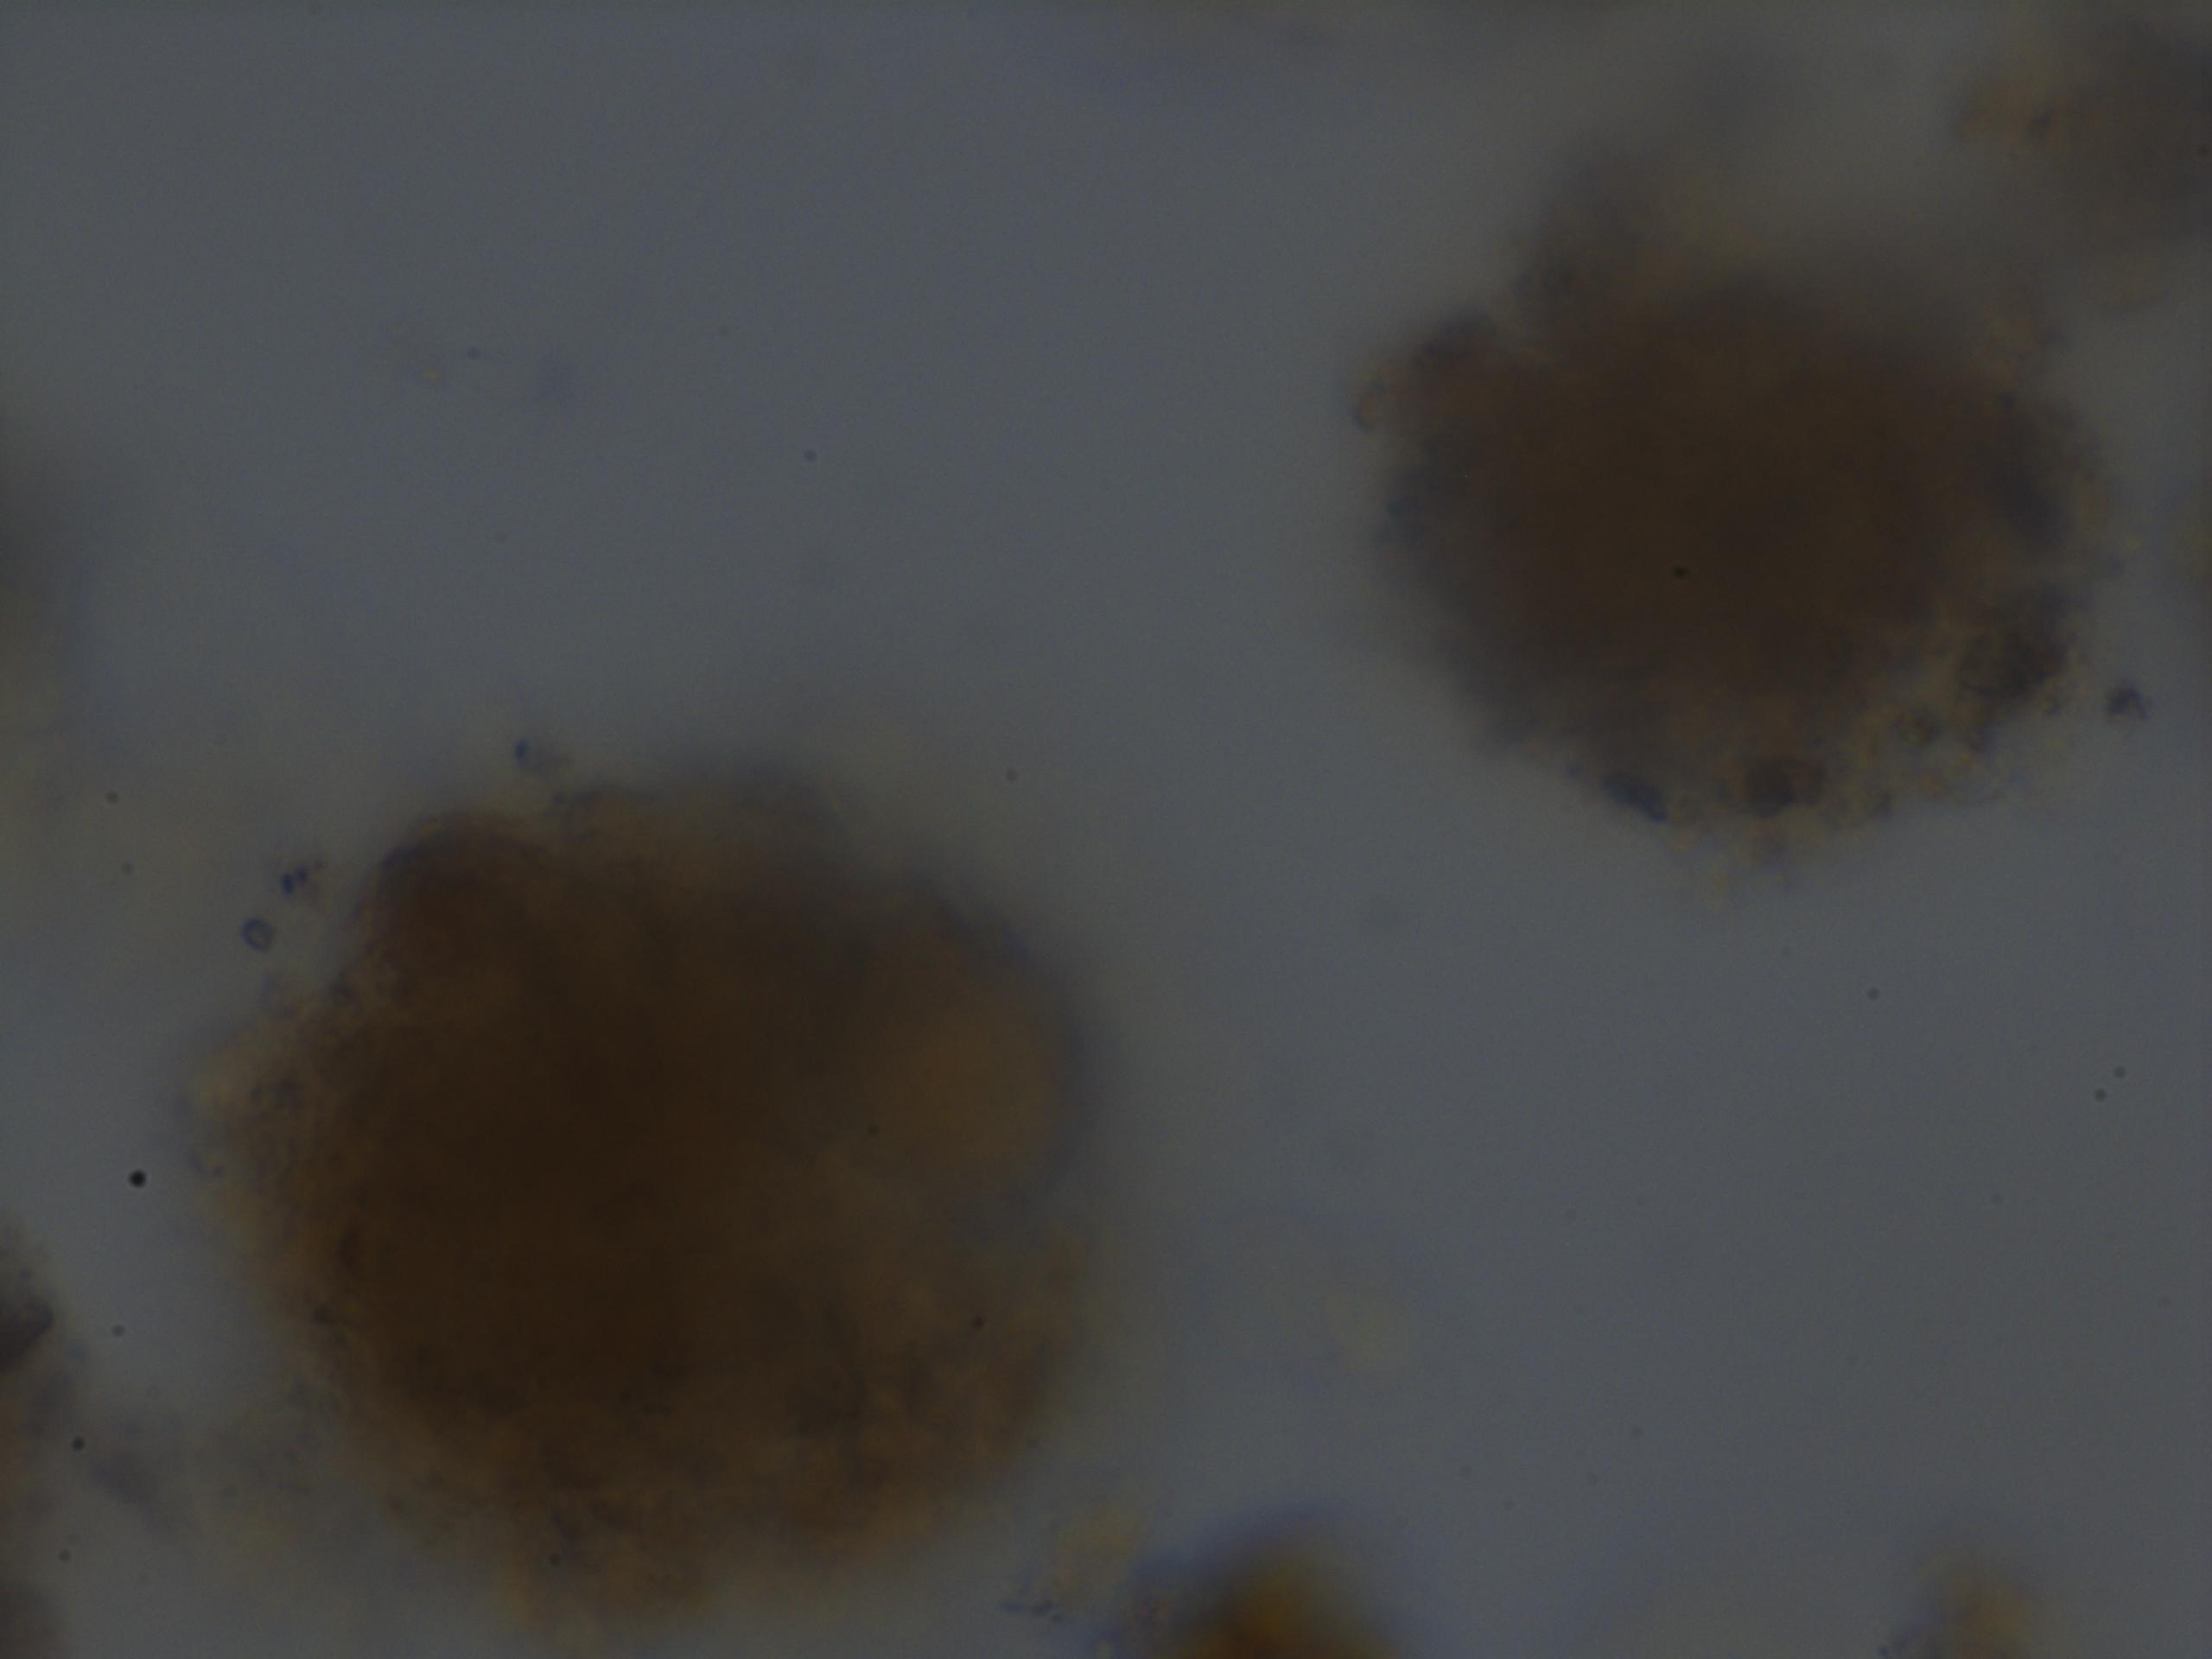spherical_floc: (192, 774, 1113, 1636), (1364, 240, 2141, 859)
